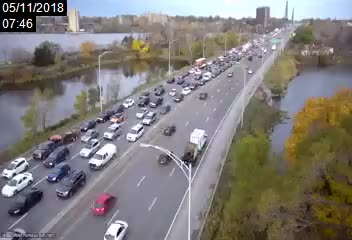congestion: (2, 129, 122, 217), (60, 99, 147, 157), (121, 64, 200, 108), (186, 49, 238, 78)
personal_car: (6, 188, 43, 215), (56, 169, 86, 197), (2, 175, 34, 199), (90, 143, 118, 170), (90, 193, 119, 216), (2, 156, 28, 179), (103, 220, 131, 240), (45, 162, 69, 183), (42, 147, 69, 165), (126, 123, 145, 142), (101, 124, 122, 141), (79, 140, 98, 157), (159, 122, 180, 137), (157, 149, 174, 164), (195, 90, 212, 101), (158, 102, 171, 116), (133, 106, 146, 120), (144, 111, 156, 126), (122, 96, 134, 111), (81, 130, 97, 141), (98, 111, 111, 123), (81, 119, 94, 131), (110, 114, 124, 124), (150, 96, 162, 107), (112, 101, 123, 113), (173, 93, 186, 103), (137, 89, 150, 99), (180, 86, 191, 95), (167, 87, 178, 96), (203, 72, 212, 82), (139, 97, 149, 106), (154, 87, 165, 95), (192, 71, 201, 80), (189, 81, 198, 90), (152, 82, 162, 90), (175, 76, 183, 85), (181, 69, 190, 76), (167, 75, 174, 83), (182, 80, 189, 87)
truck: (176, 129, 213, 166), (192, 58, 206, 71)
